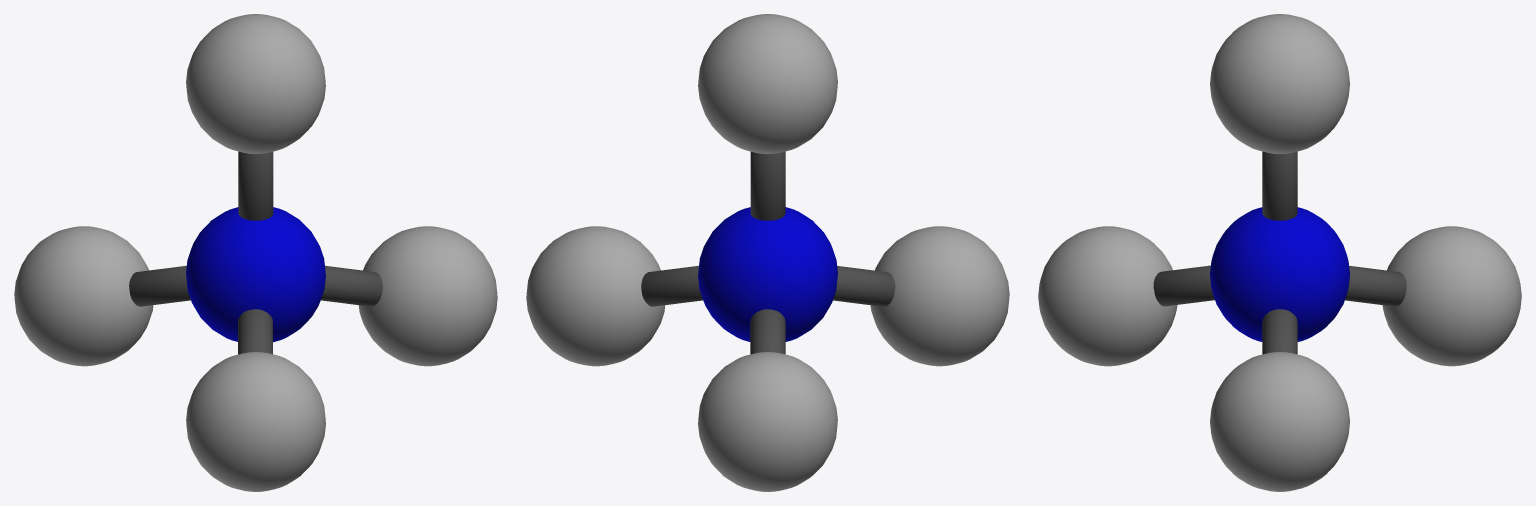
The picture shows the model from 3 angles, left to right: view 1: azimuth 30°, elevation 25°; view 2: azimuth 150°, elevation 25°; view 3: azimuth 270°, elevation 25°; orthographic projection.
Parts seen in each view (by area): view 1: Esfera.004, Esfera.001, Esfera.002, Esfera.003, Esfera, Cilindro, Cilindro.002, Cilindro.001, Cilindro.003; view 2: Esfera.003, Esfera.001, Esfera.002, Esfera.004, Esfera, Cilindro, Cilindro.003, Cilindro.001, Cilindro.002; view 3: Esfera.002, Esfera.001, Esfera.004, Esfera.003, Esfera, Cilindro, Cilindro.002, Cilindro.003, Cilindro.001.
Part boxes in pixels (box(x1,y1,x2,y2)): Esfera.004: box(186, 352, 325, 491); Esfera.001: box(186, 14, 325, 153); Esfera.002: box(358, 226, 497, 366); Esfera.003: box(14, 226, 153, 366); Esfera: box(186, 207, 325, 342); Cilindro: box(238, 151, 273, 220); Cilindro.002: box(129, 265, 190, 306); Cilindro.001: box(321, 265, 382, 306); Cilindro.003: box(238, 309, 272, 354); Esfera.003: box(698, 352, 837, 491); Esfera.001: box(698, 14, 837, 153); Esfera.002: box(526, 226, 665, 366); Esfera.004: box(870, 226, 1009, 366); Esfera: box(698, 207, 837, 341); Cilindro: box(750, 151, 785, 220); Cilindro.003: box(833, 266, 895, 306); Cilindro.001: box(641, 265, 702, 306); Cilindro.002: box(750, 309, 785, 354); Esfera.002: box(1210, 352, 1349, 491); Esfera.001: box(1210, 14, 1349, 153); Esfera.004: box(1038, 226, 1177, 366); Esfera.003: box(1382, 226, 1521, 366); Esfera: box(1210, 207, 1349, 341); Cilindro: box(1262, 151, 1297, 220); Cilindro.002: box(1345, 265, 1406, 306); Cilindro.003: box(1153, 265, 1214, 306); Cilindro.001: box(1262, 309, 1297, 354).
Size of the model in its own units: 3.74 by 3.6 by 4.14.
